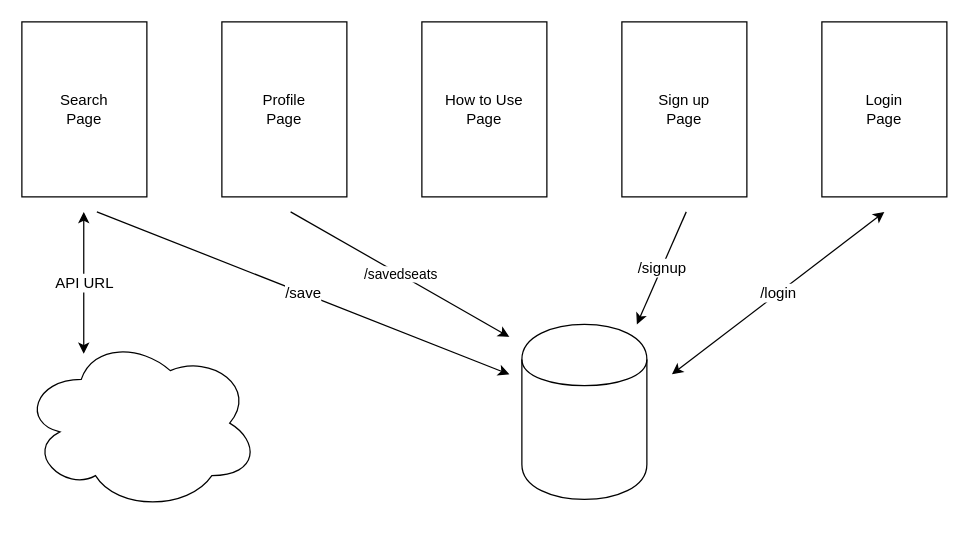
Some shapes in this 969 by 533 pixel diagram are drawn without their labels. Here are the shapes that lost their labels. From the top down, the centre of each, then its label:
At point 140,422: "API".
At point 584,411: "PostgreSQL Database".
